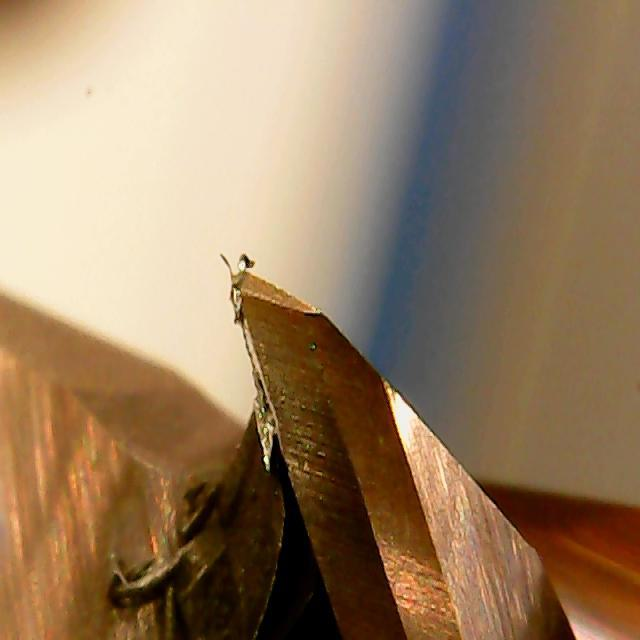Tool-wear-class-2: (214, 245, 383, 563)
